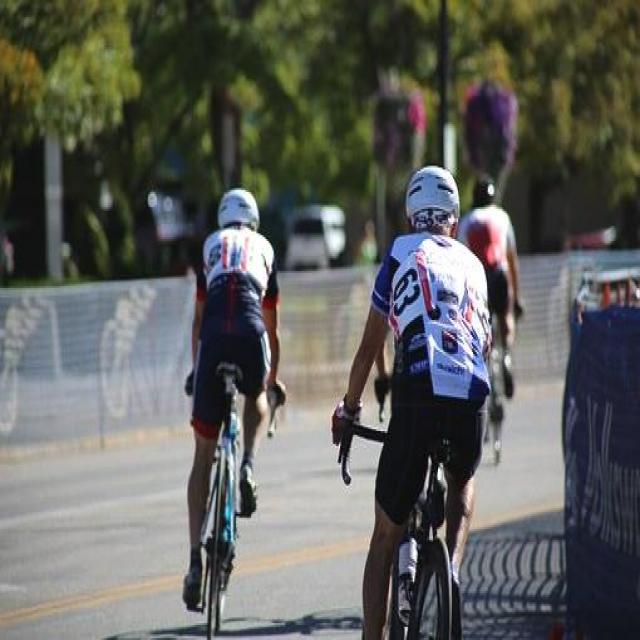bikerider: (329, 154, 498, 638), (177, 182, 285, 632)
